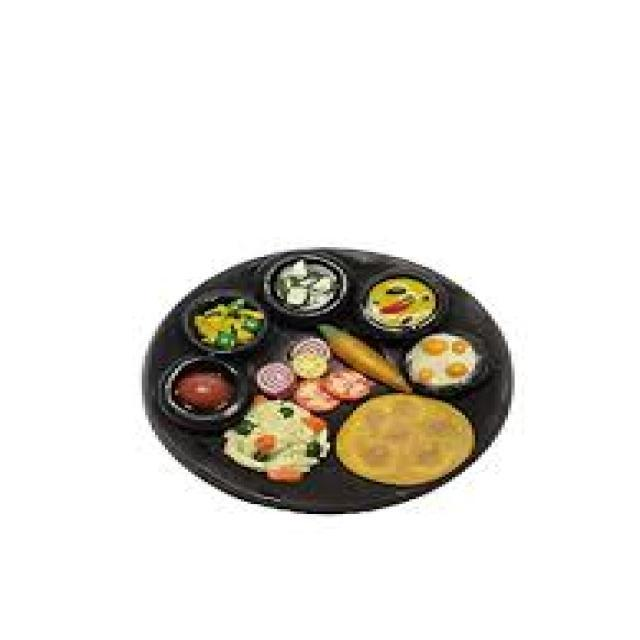sweet: (158, 360, 244, 421)
